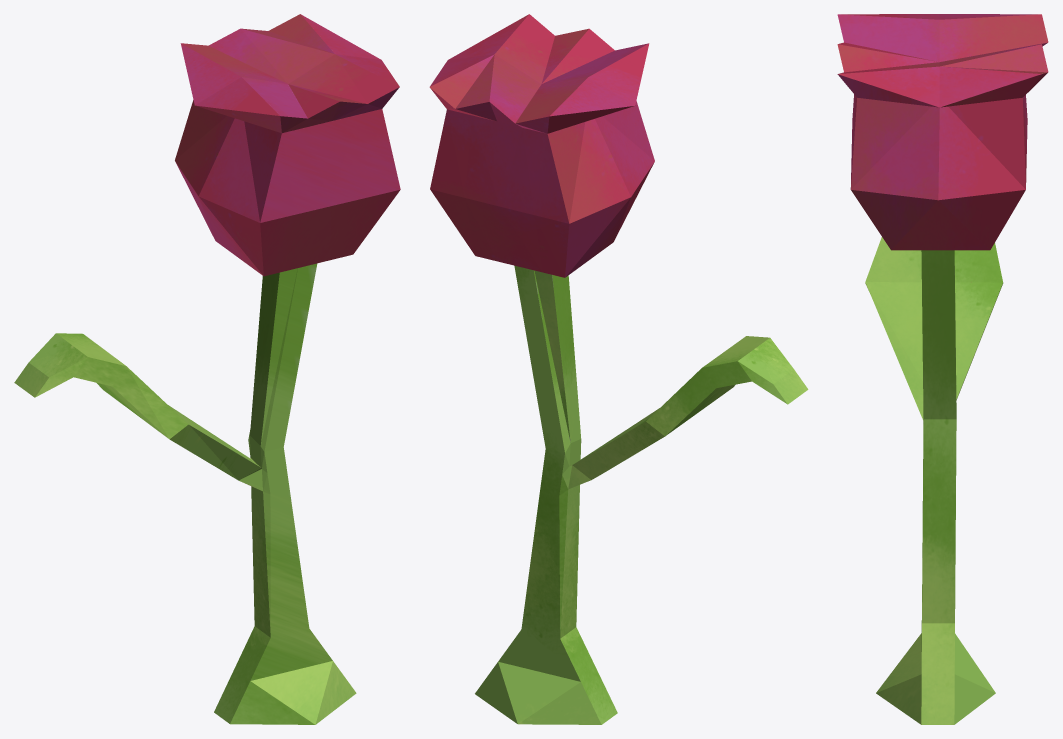
Rendered from tulipOne.glb.
The picture shows the model from 3 angles, left to right: view 1: azimuth 30°, elevation 25°; view 2: azimuth 150°, elevation 25°; view 3: azimuth 270°, elevation 25°; orthographic projection. The views are drawn at different scales.
Parts seen in each view (by area): view 1: Cube; view 2: Cube; view 3: Cube.
Boxes of the visible parts, x1,y1,x2,y2 form: Cube: [14, 14, 400, 724]; Cube: [429, 14, 808, 724]; Cube: [837, 14, 1048, 724].
Bounding box in the file's own units: 1.56 × 2.69 × 0.7887.
1 material, 1 textured.
